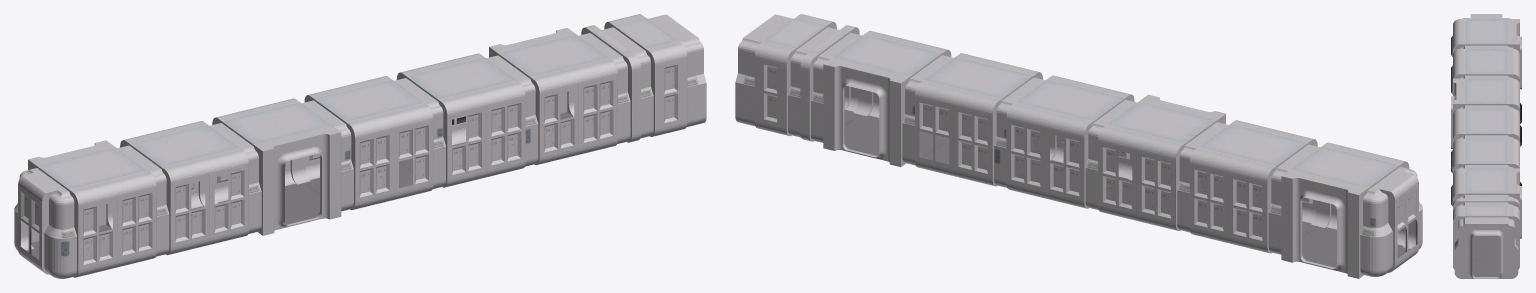
Rendered from thm_spc_corvette_dungeon_r6_hall6_mesh_r6.fbx.
The picture shows the model from 3 angles, left to right: view 1: azimuth 30°, elevation 25°; view 2: azimuth 150°, elevation 25°; view 3: azimuth 270°, elevation 25°; orthographic projection. The views are drawn at different scales.
Parts seen in each view (by area): view 1: mesh_node; view 2: mesh_node; view 3: mesh_node.
Boxes of the visible parts, left/top/right/bottom form: mesh_node: left=14, top=14, right=706, bottom=278; mesh_node: left=735, top=14, right=1422, bottom=278; mesh_node: left=1451, top=14, right=1521, bottom=278.
Size of the model in its own units: 28.8 by 3.5 by 4.
